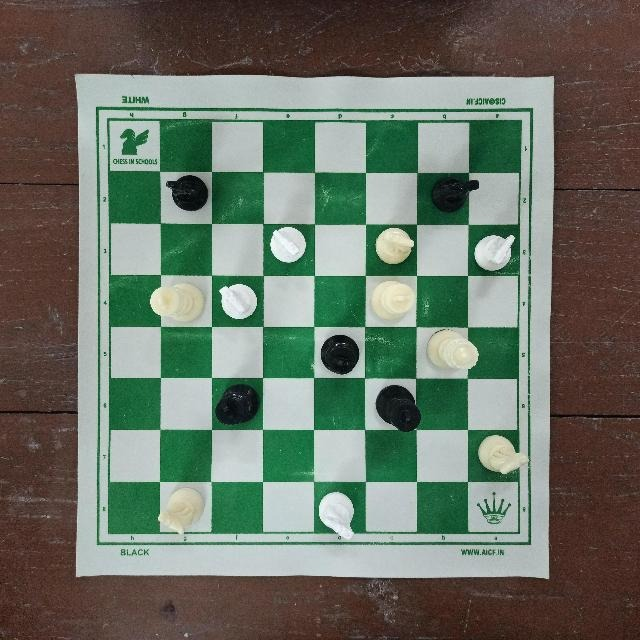black-king: (475, 0, 586, 28), (370, 383, 424, 433), (211, 380, 261, 429), (314, 332, 366, 378)
black-knight: (162, 173, 213, 219), (428, 172, 480, 215)
white-king: (147, 280, 212, 324), (365, 277, 419, 327)
white-knight: (478, 430, 529, 482), (152, 487, 204, 537), (470, 226, 520, 277), (368, 224, 417, 271), (313, 492, 365, 536), (214, 275, 263, 321), (264, 222, 311, 269)
white-queen: (430, 332, 480, 379)
